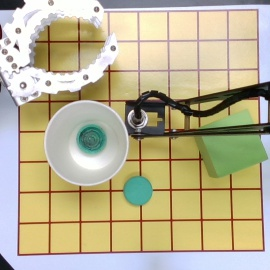cup_green: (45, 99, 127, 186)
green: (125, 177, 152, 205)
